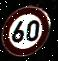Speed Limit -60-: (0, 4, 54, 56)
